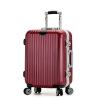luggage: (22, 11, 76, 98)
